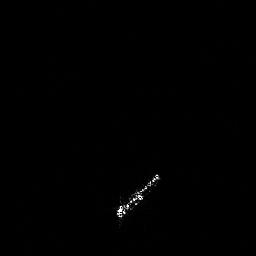ship: (113, 171, 160, 222)
